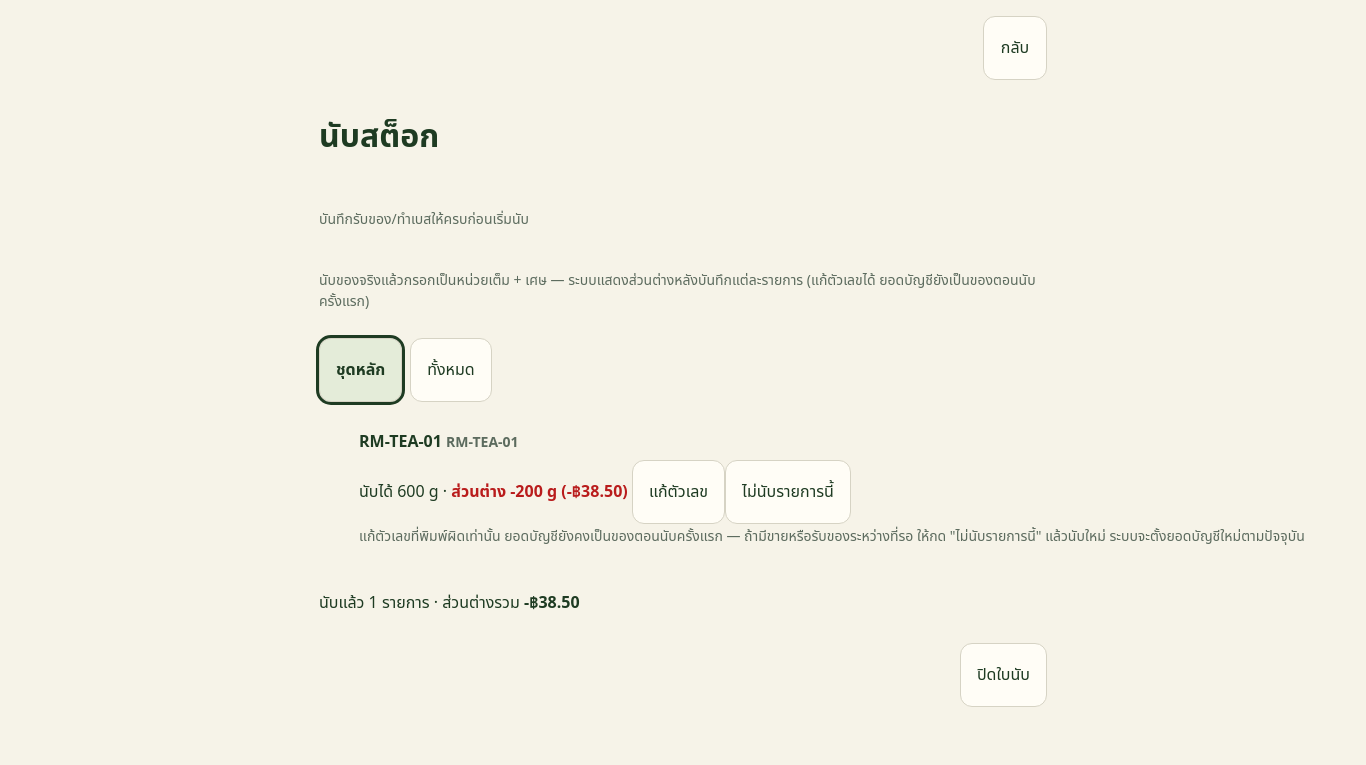
Test: CountScreen — blind count leaves no trace of the book figure anywhere in the DOM, including inputs, placeholders and data-* (review I-1) › still hides the figure once one line is saved, for every OTHER unsaved row on the same screen
Expected: the text "นับได้ 600 g" is shown, [359,480,439,502]
Click the button with test id "count-scope-all" at (451, 370), box [410,338,492,402]
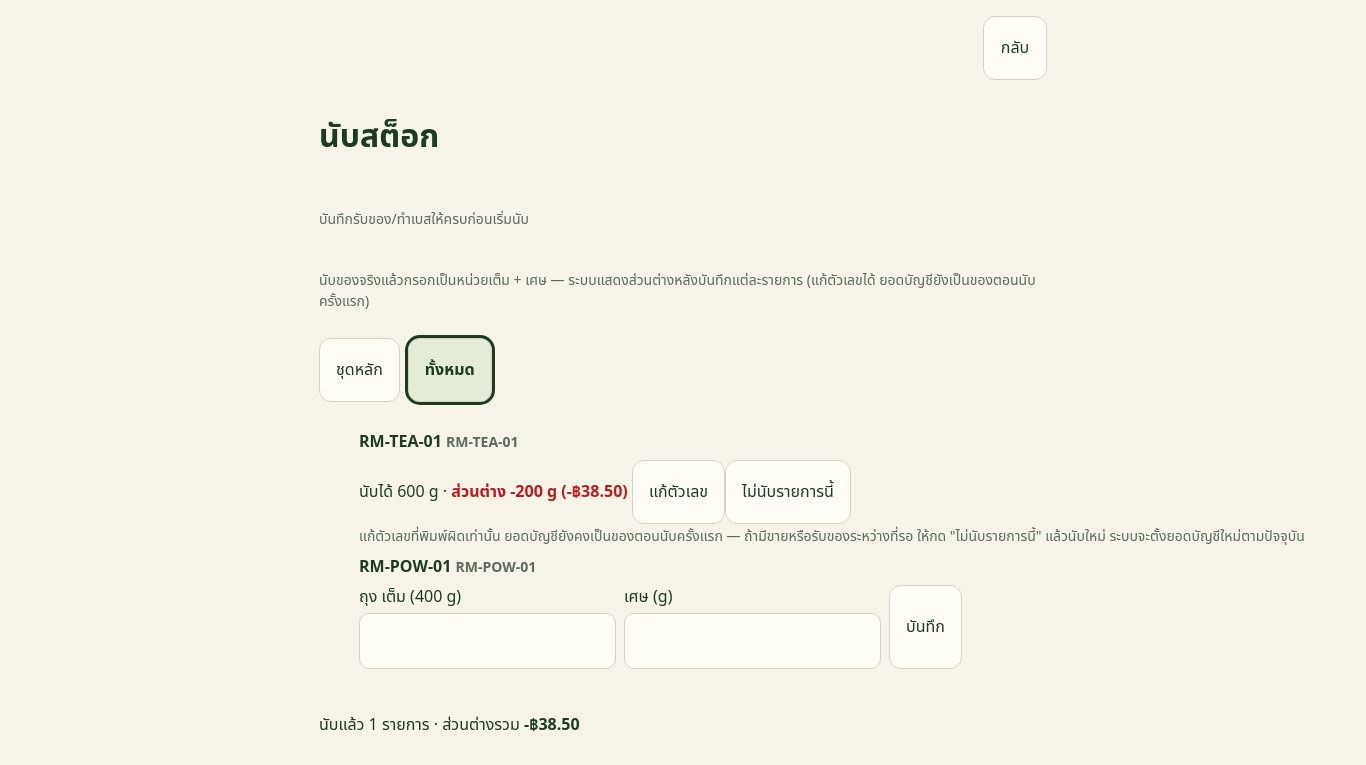
Expected: the list item with test id "count-row-RM-POW-01" is shown, [359,555,1047,669]
